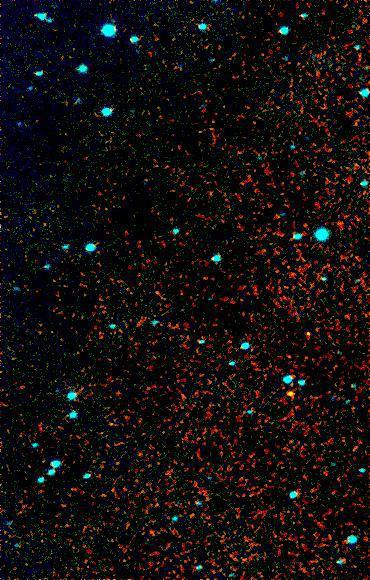star: (276, 379, 306, 409)
